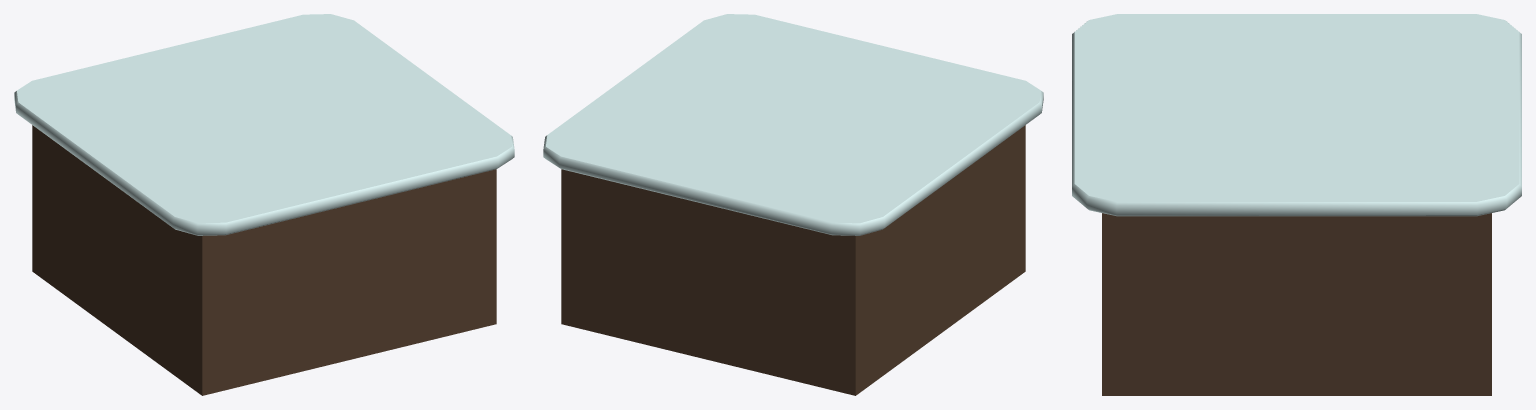
File: Counter 2.fbx
3 views of the same model, side by side, from view 1: azimuth 30°, elevation 25°; view 2: azimuth 150°, elevation 25°; view 3: azimuth 270°, elevation 25° (orthographic). The views are drawn at different scales.
Parts seen in each view (by area): view 1: Cube, Cube.001; view 2: Cube, Cube.001; view 3: Cube.001, Cube.
Part boxes in pixels (x1,y1,x2,y2): Cube: (32,125,496,395); Cube.001: (14,14,514,235); Cube: (561,125,1025,395); Cube.001: (543,14,1043,235); Cube.001: (1072,14,1521,216); Cube: (1102,213,1491,395).
Size of the model in its own units: 231 by 116 by 231.
